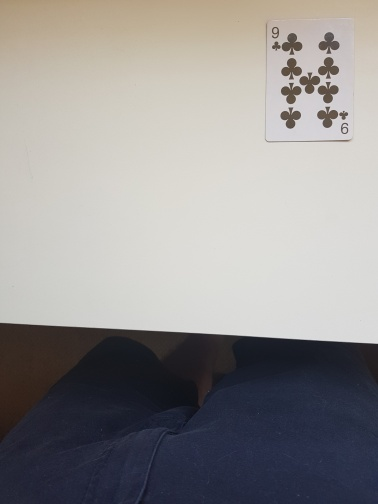nine: (264, 17, 354, 143)
